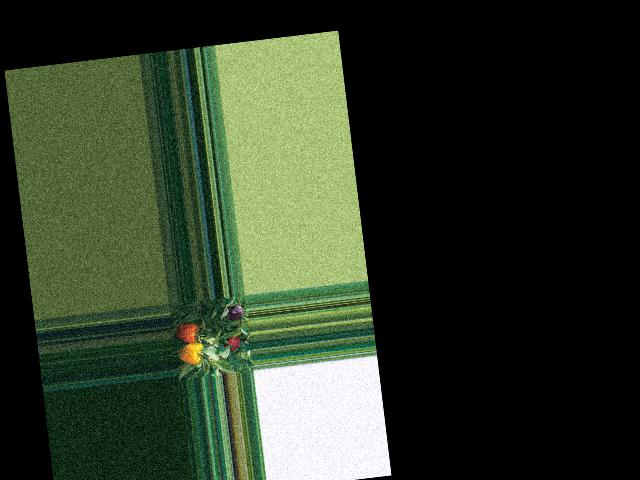bell_pepper: (178, 336, 206, 365)
